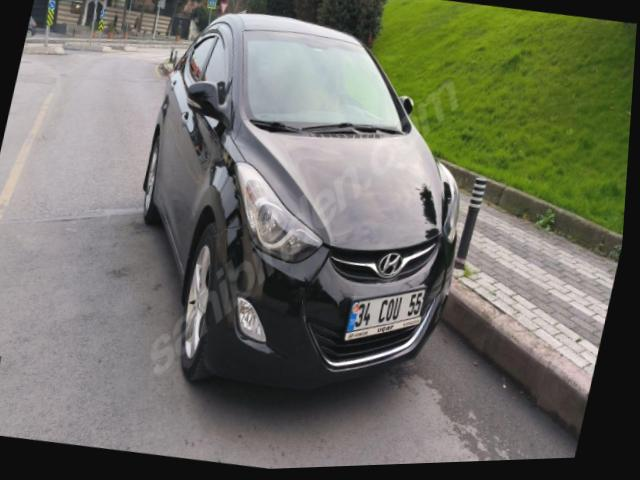plaka: (345, 290, 424, 340)
